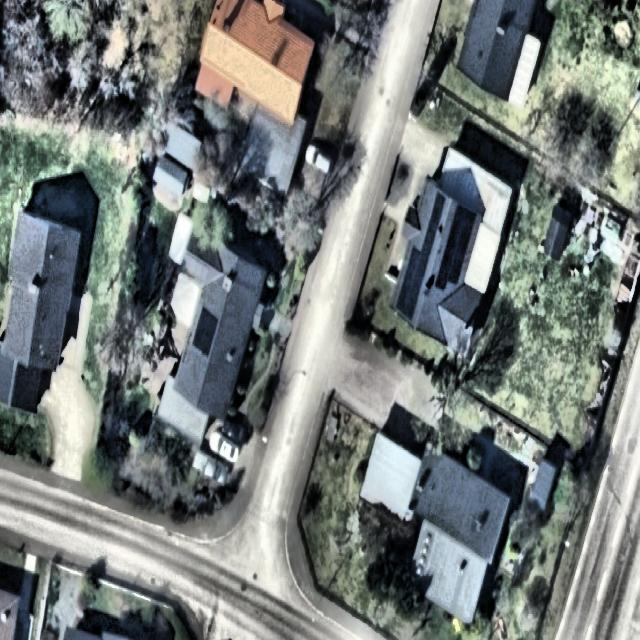roof_pv: (438, 200, 478, 290), (396, 242, 431, 321), (421, 193, 445, 257), (194, 304, 218, 360)
